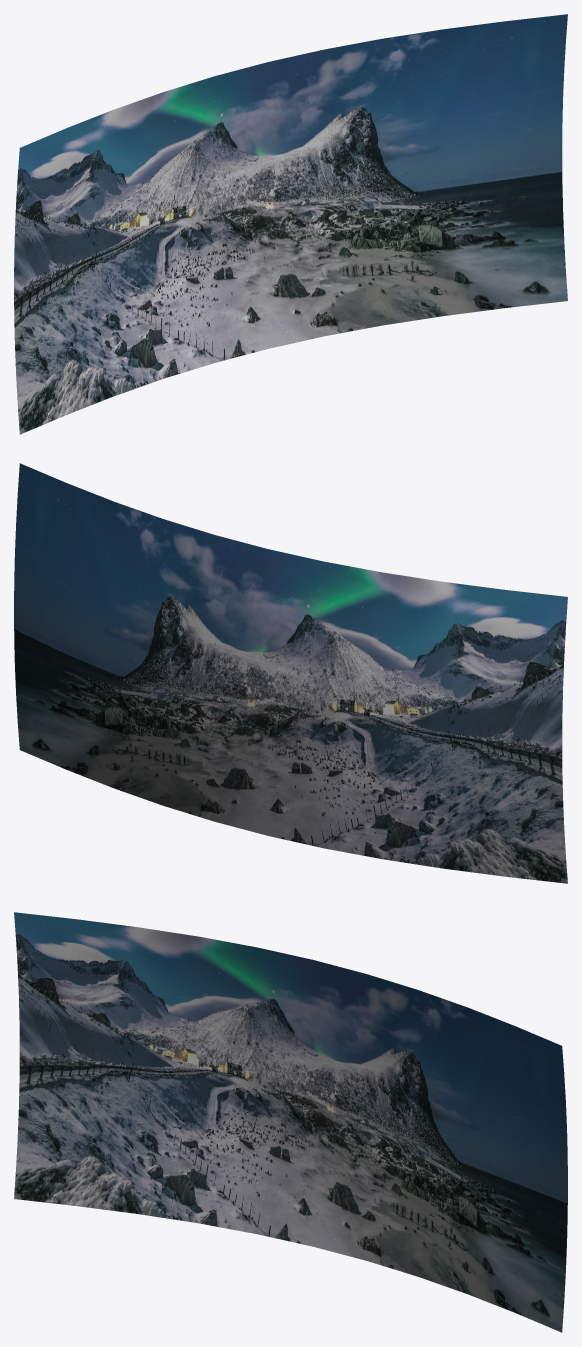
The model's file is C_Montana.fbx.
The picture shows the model from 3 angles, top to bottom: view 1: azimuth 30°, elevation 25°; view 2: azimuth 150°, elevation 25°; view 3: azimuth 330°, elevation 25°; orthographic projection.
Parts seen in each view (by area): view 1: pPlane1; view 2: pPlane1; view 3: pPlane1.
Part boxes in pixels (x1,y1,x2,y2): pPlane1: [14, 14, 567, 434]; pPlane1: [14, 463, 567, 883]; pPlane1: [14, 912, 567, 1332].
Size of the model in its own units: 400 by 200 by 42.49.
1 material, 1 textured.
